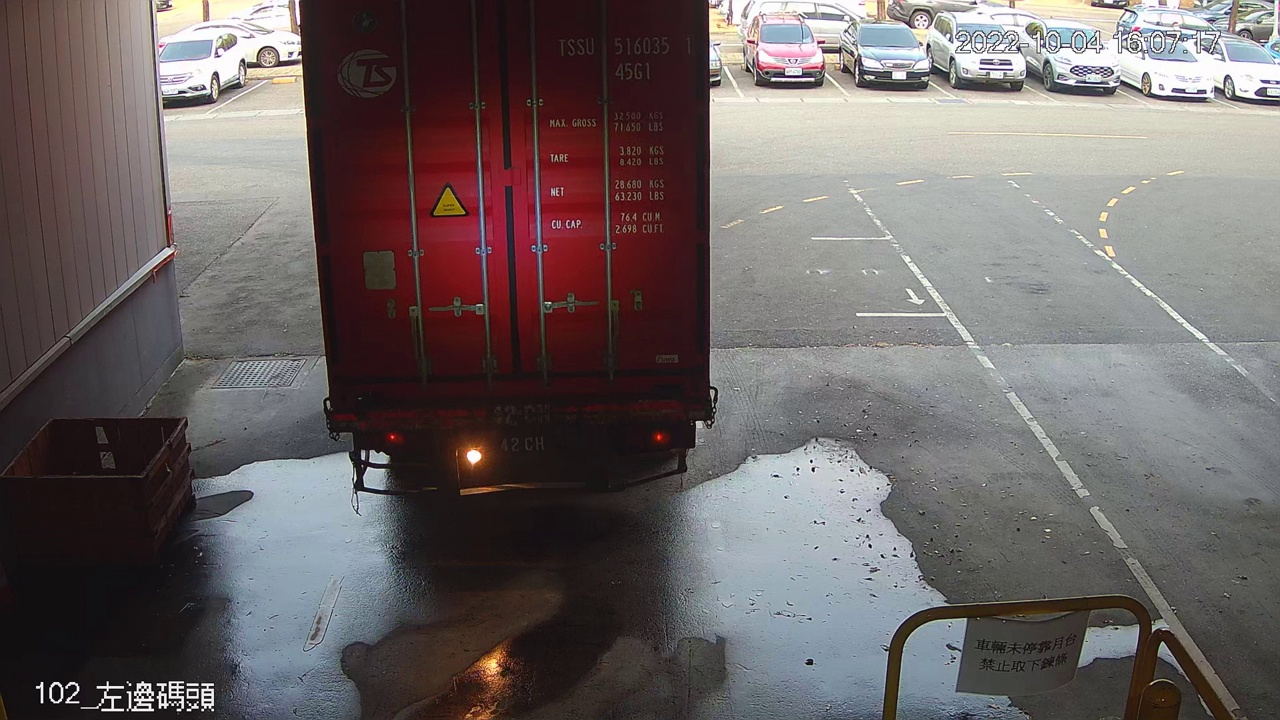container: (548, 31, 701, 84)
